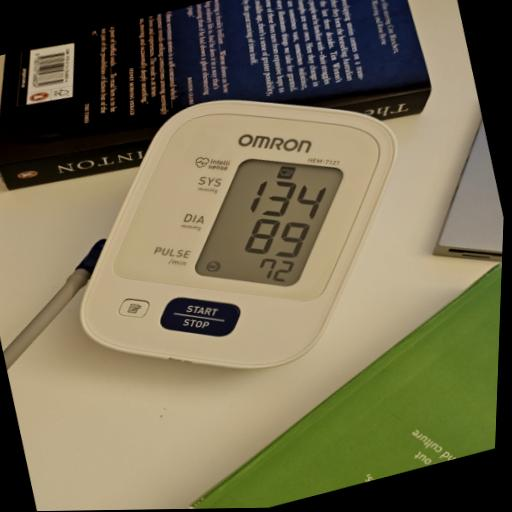lcd display: (166, 132, 374, 313)
